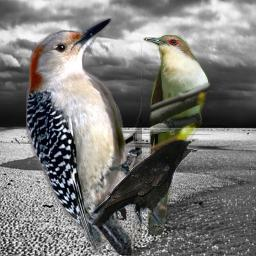Crow: (89, 137, 201, 232)
Cuckoo: (143, 34, 211, 235)
Woodpecker: (26, 18, 142, 255)
